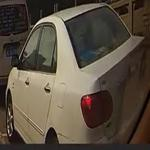wheel: (5, 92, 15, 142), (46, 133, 58, 148)
